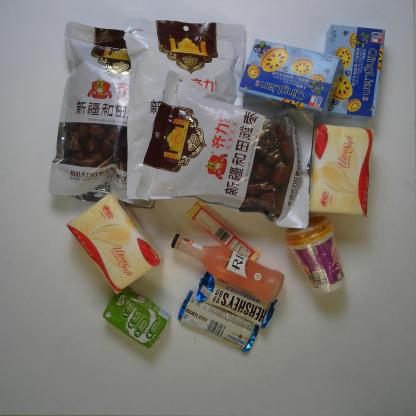Alcohol: (169, 232, 288, 306)
Chocolate: (176, 288, 263, 356), (183, 198, 263, 265), (195, 269, 280, 330)
Dessert: (236, 35, 347, 121), (315, 20, 388, 123)
Dried Food: (131, 68, 319, 232), (117, 12, 253, 206), (42, 16, 162, 213)
Instant Drink: (280, 213, 350, 297)
Milk: (98, 284, 174, 351)
Tissue: (63, 188, 169, 297), (304, 122, 379, 223)
